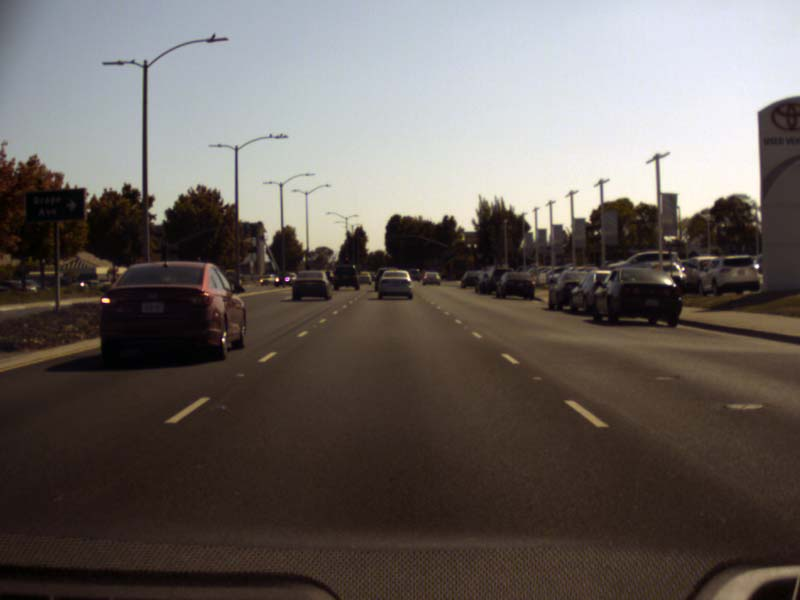Red: (345, 256, 348, 262)
